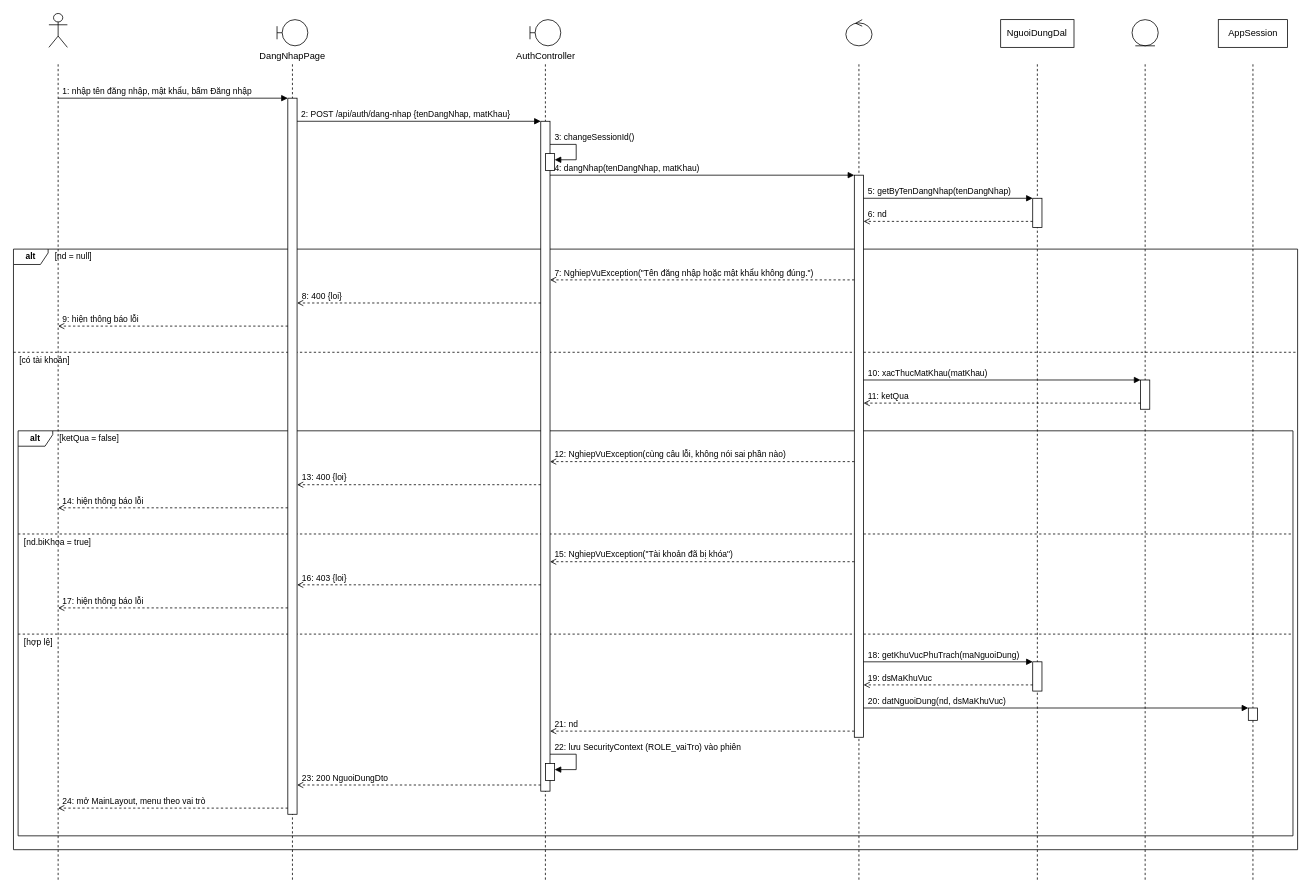
The diagram is 1312 pixels wide and 896 high, and some of its shapes have lost their labels. Here are the shapes that lost their labels. From the top down, the centre of each, then its label:
At (57,30): "Người dùng".
At (858,32): "AccountService".
At (1144,32): "nd : NguoiDung".
